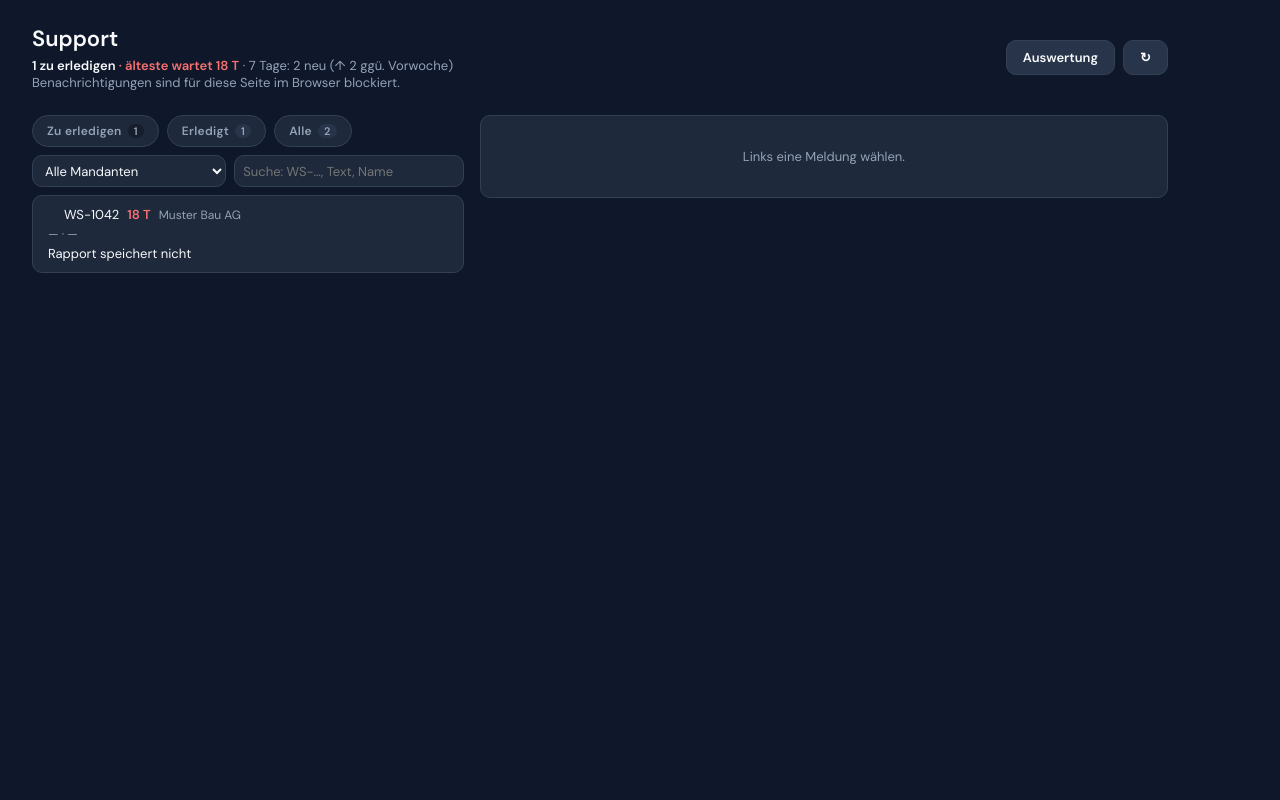
Test case: SupportTicketsScreen — Posteingang › Auswertung: keine Diagramme bei zu wenig Daten, sondern ein Satz
Expected: the text "1 zu erledigen" is shown, [32,57,116,74]
Click the button "Auswertung".
click(1060, 58)  # box [1006,40,1115,75]
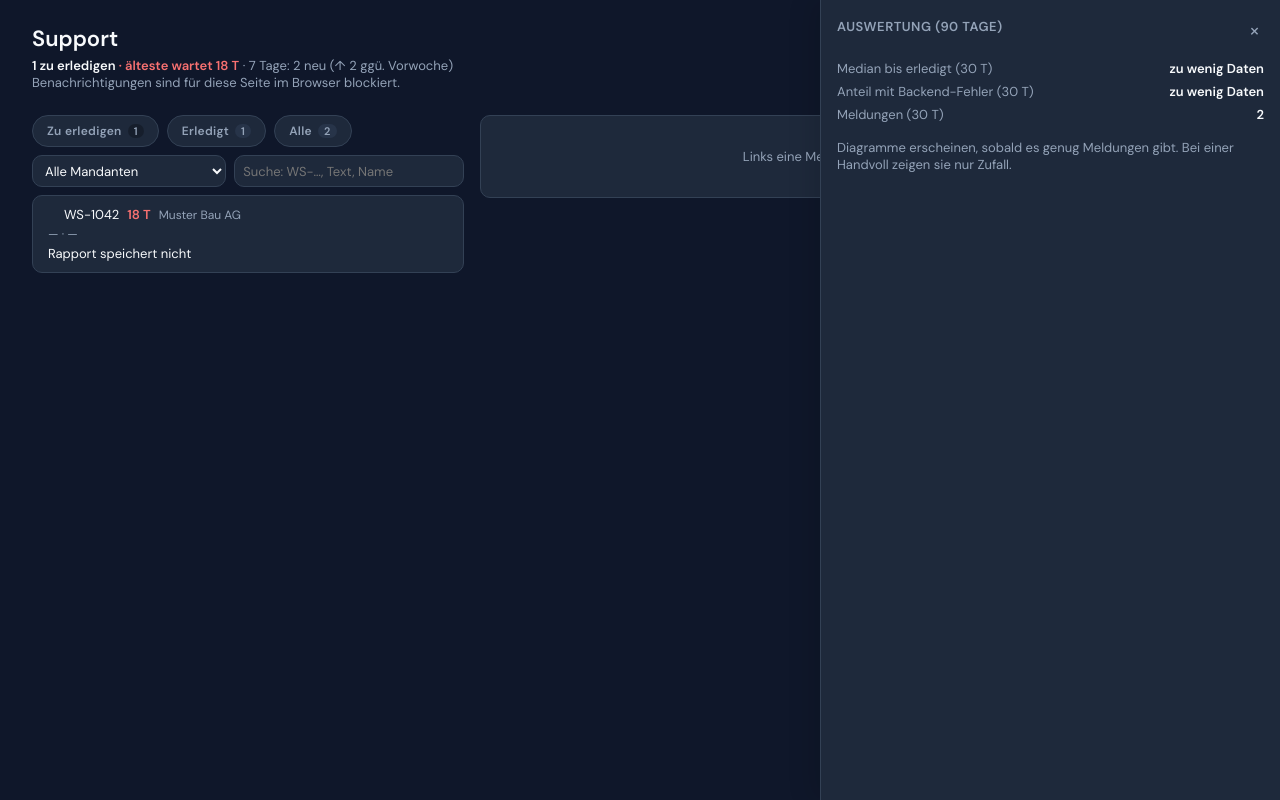
Result: the text "Diagramme erscheinen, sobald" is shown at [837,139,1234,173]
Result: the text "zu wenig Daten" is shown 2 times at [1169,60,1264,77]; [1169,83,1264,100]
